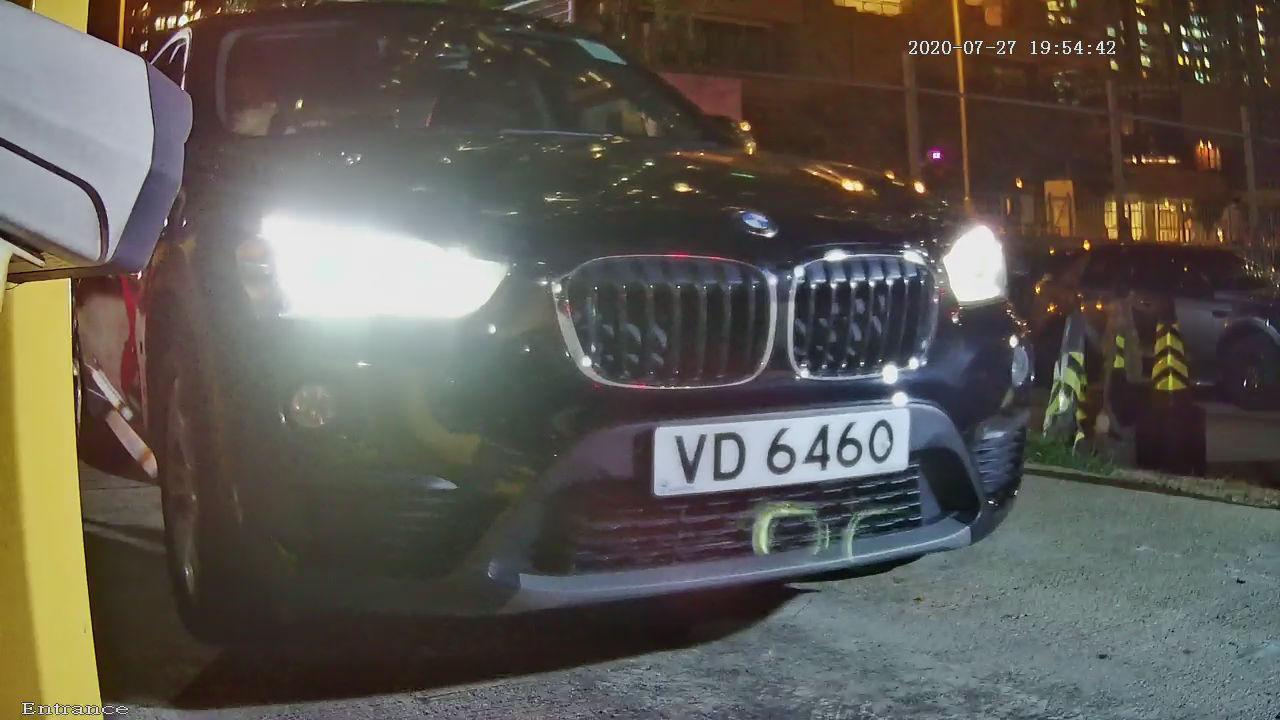privatecar: (63, 10, 1081, 672)
